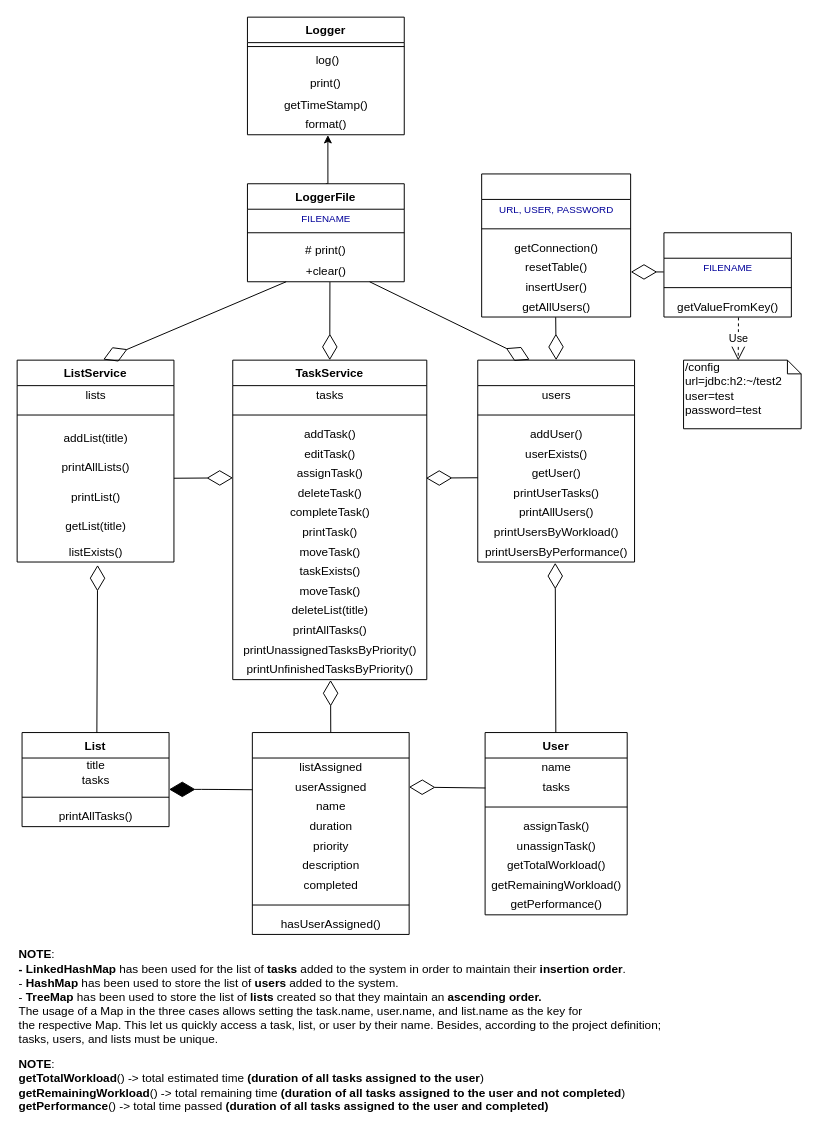
The diagram is 818 pixels wide and 1132 high, and some of its shapes have lost their labels. Each missing label, with the box of its shape:
Configuration: (663, 232, 791, 317)
EpitrelloJDBCDAO: (481, 173, 631, 317)
Task: (251, 732, 409, 934)
UserService: (477, 359, 635, 562)
